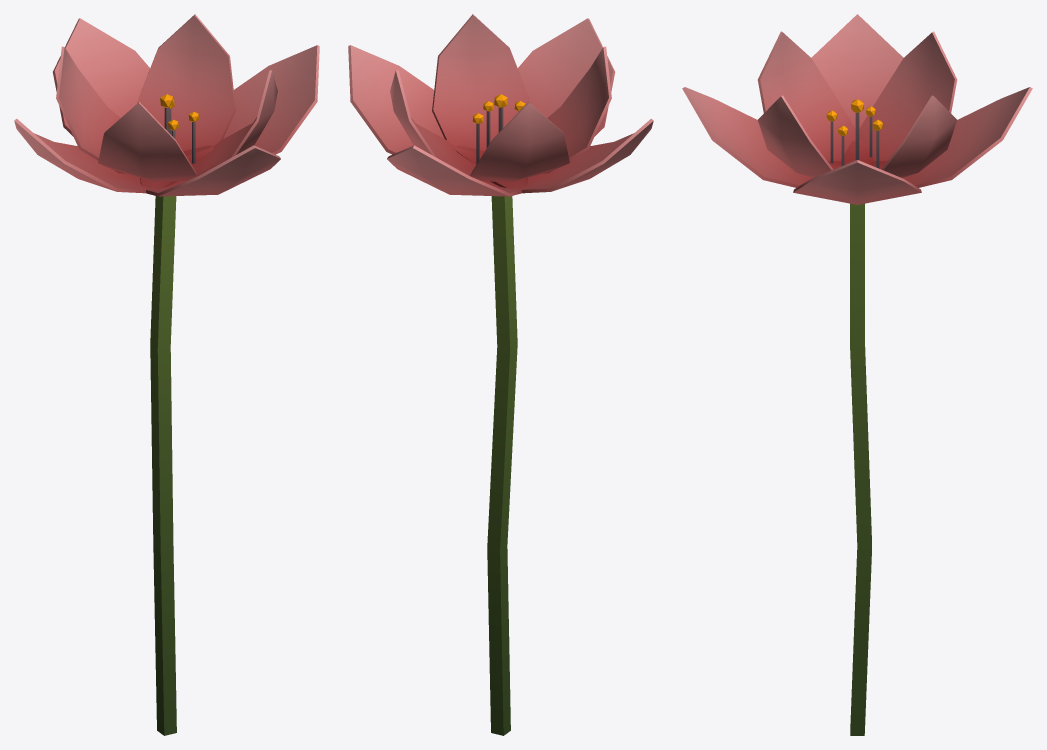
File: PondPlant_03.fbx
3 renders of one model, left to right at view 1: azimuth 30°, elevation 25°; view 2: azimuth 150°, elevation 25°; view 3: azimuth 270°, elevation 25°, orthographic.
Parts seen in each view (by area): view 1: PondPlant_03_LOD0; view 2: PondPlant_03_LOD0; view 3: PondPlant_03_LOD0.
Boxes of the visible parts, x1,y1,x2,y2 form: PondPlant_03_LOD0: [14, 14, 319, 735]; PondPlant_03_LOD0: [348, 14, 653, 735]; PondPlant_03_LOD0: [682, 14, 1032, 735].
Size of what is drawn, in the model's own units: 0.2557 by 0.5383 by 0.2557.
